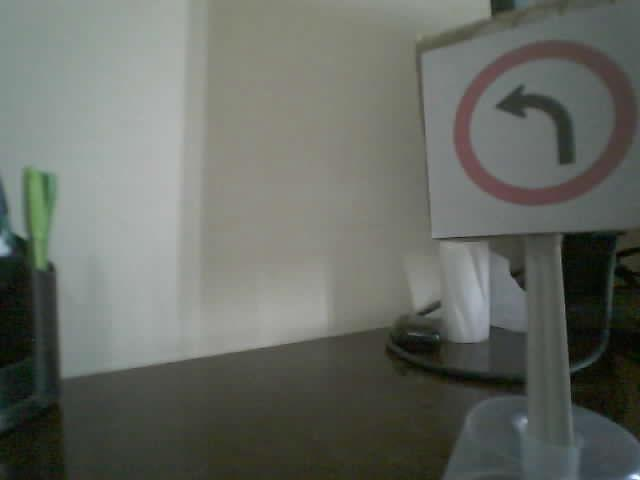R-25a_esquerda: (450, 38, 633, 204)
